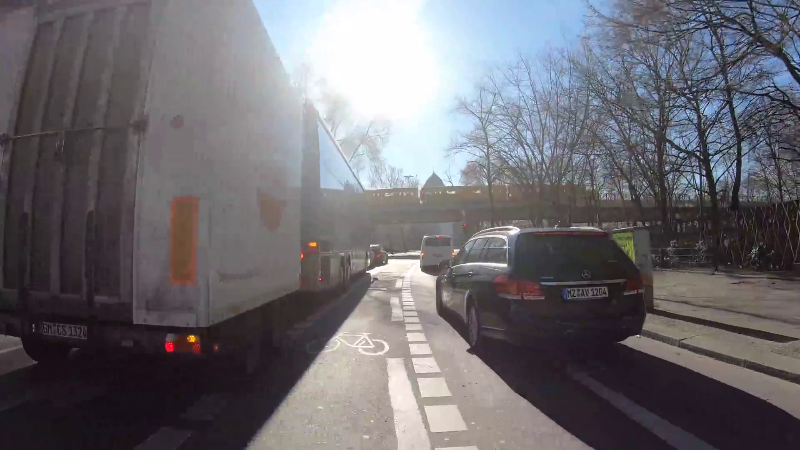Plate: (35, 320, 89, 344), (556, 284, 611, 301)
